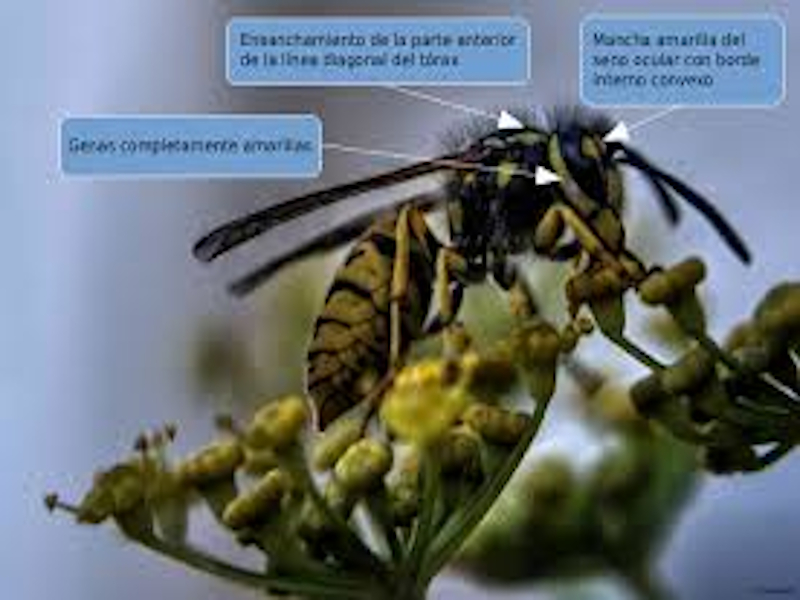chax: (269, 115, 666, 407)
